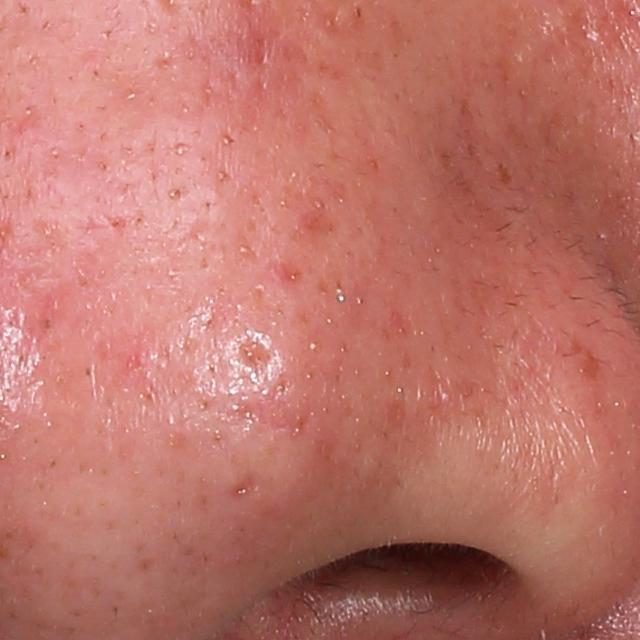atrophic_scar: (234, 335, 269, 375), (229, 466, 259, 500)
comedo: (163, 183, 187, 204)
